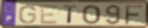9: (104, 4, 122, 26)
E: (40, 4, 59, 25)
F: (124, 4, 145, 26)
G: (18, 5, 38, 25)
O: (82, 4, 102, 25)
T: (63, 5, 79, 25)
